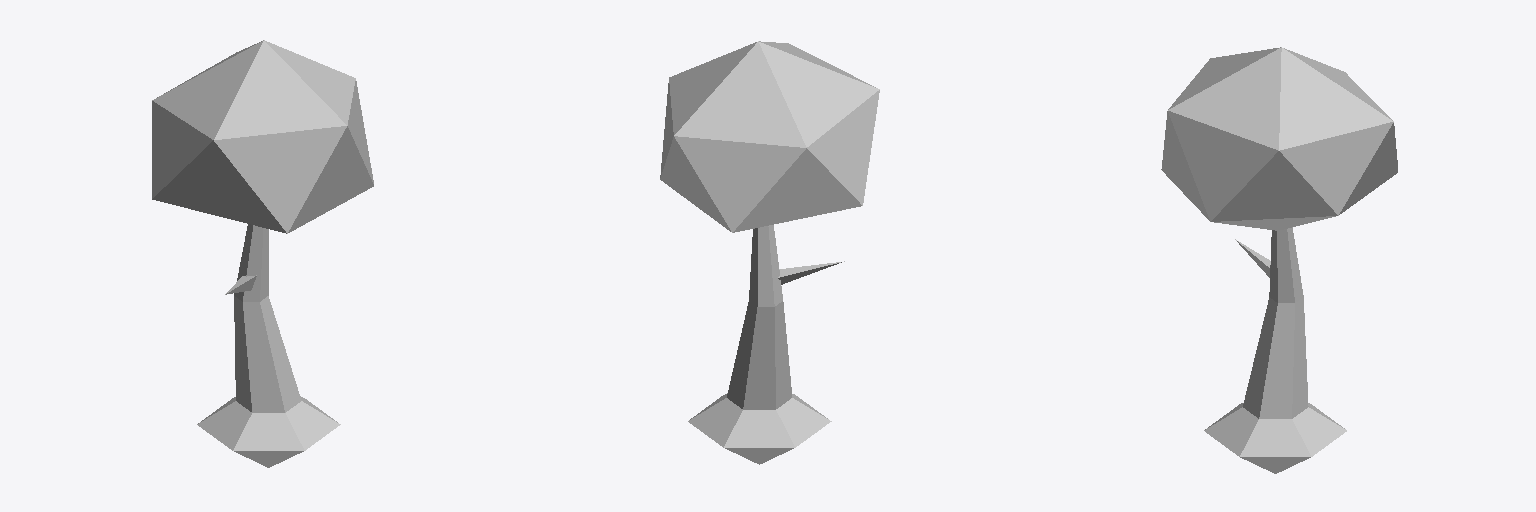
File: tree.obj
3 renders of one model, left to right at view 1: azimuth 30°, elevation 25°; view 2: azimuth 150°, elevation 25°; view 3: azimuth 270°, elevation 25°, orthographic.
Visible parts, largest first — view 1: tree; view 2: tree; view 3: tree.
Part boxes in pixels (left/top/right/bottom): tree: left=152, top=40, right=373, bottom=467; tree: left=660, top=41, right=879, bottom=464; tree: left=1161, top=47, right=1397, bottom=473.
Bounding box in the file's own units: 3.8 × 7.77 × 3.92.